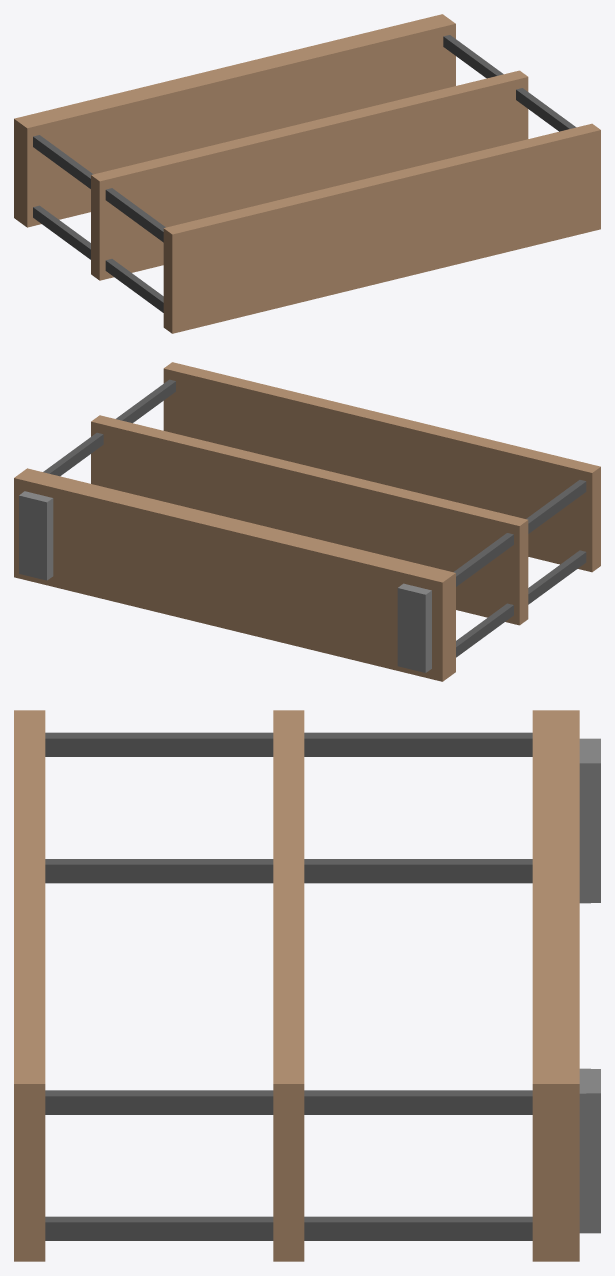
File: Modern_Shelves_2.obj
The picture shows the model from 3 angles, top to bottom: view 1: azimuth 30°, elevation 25°; view 2: azimuth 150°, elevation 25°; view 3: azimuth 270°, elevation 25°; orthographic projection. The views are drawn at different scales.
Parts seen in each view (by area): view 1: Modern_Shelves_2; view 2: Modern_Shelves_2; view 3: Modern_Shelves_2.
Boxes of the visible parts, box(x1,y1,x2,y2) form: Modern_Shelves_2: box(14, 14, 600, 333); Modern_Shelves_2: box(14, 362, 600, 681); Modern_Shelves_2: box(14, 710, 600, 1261).
Bounding box in the file's own units: 1.24 × 0.2757 × 0.8266.
